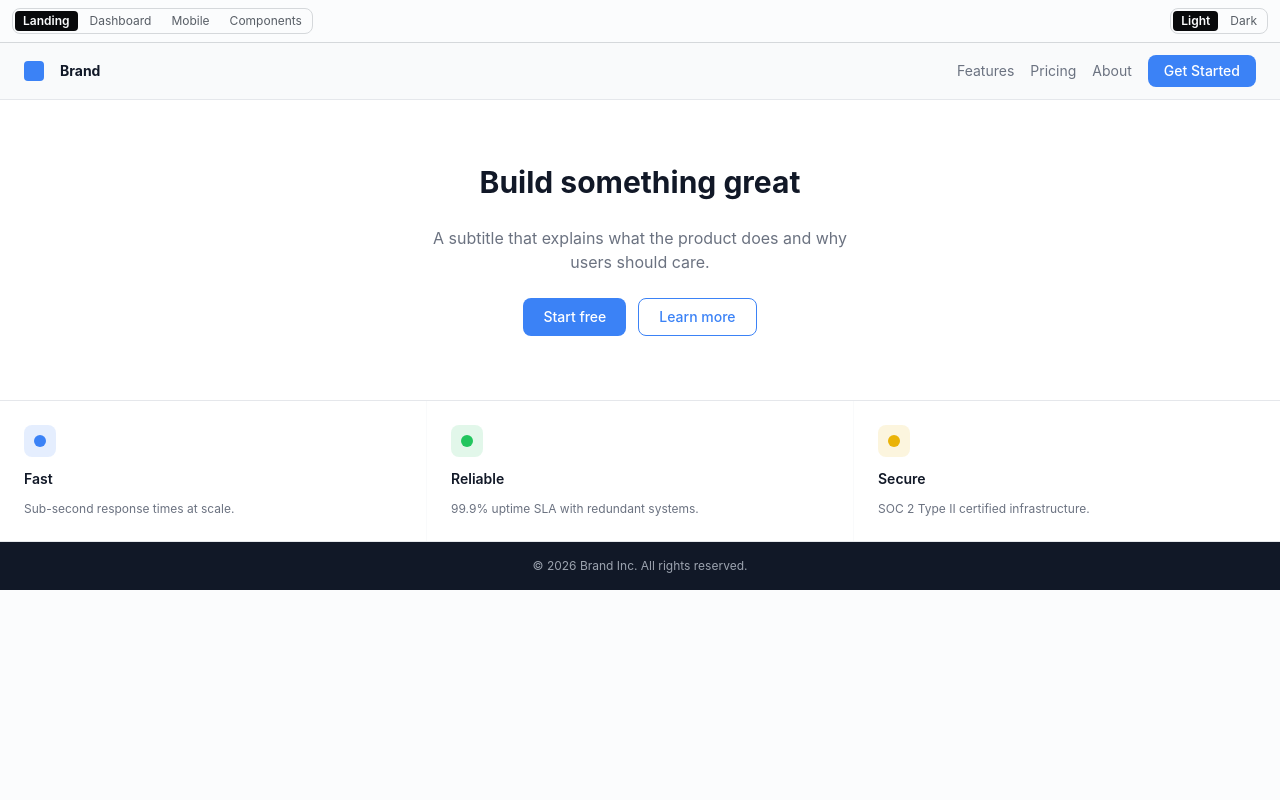
PreviewTab › switches to mobile scene on tab click
The image size is (1280, 800).
Click the button "Mobile" at (190, 21), box [163, 11, 218, 31]
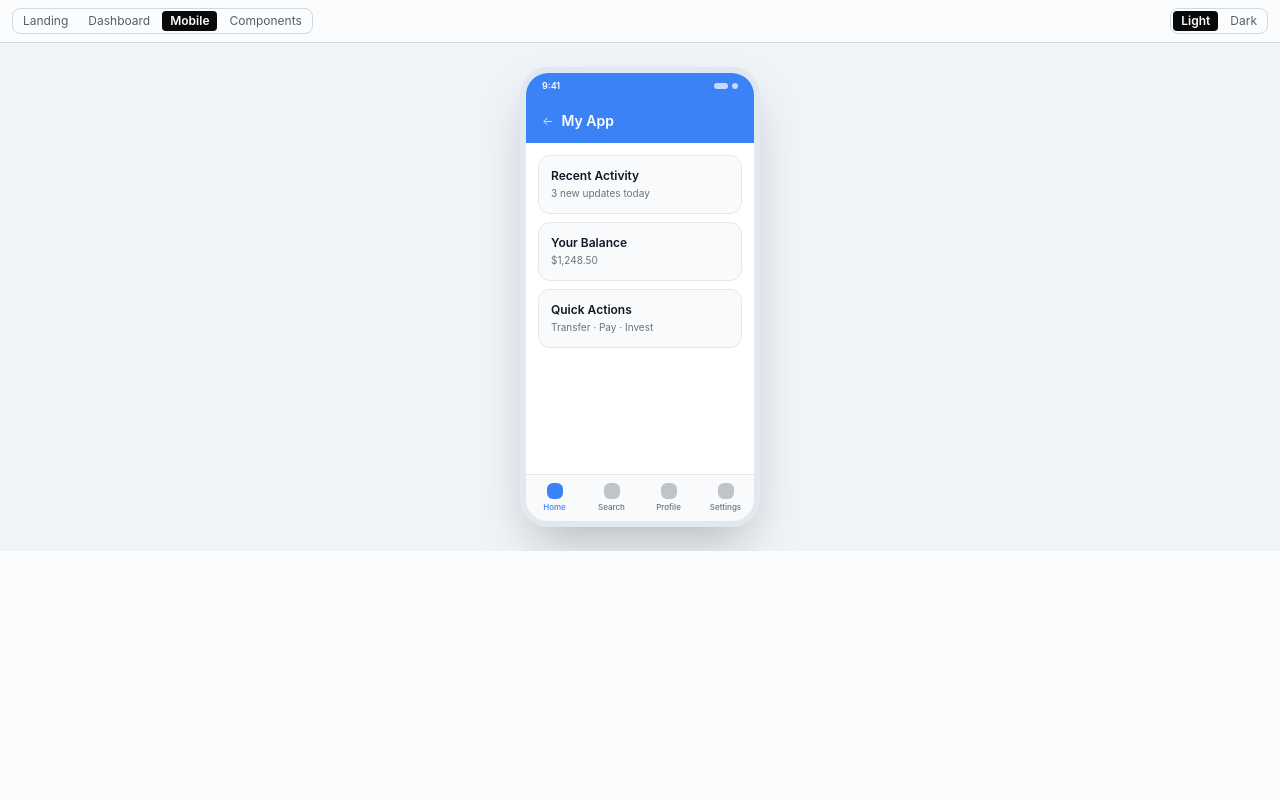
Expected: the element with test id "mobile-scene" is shown
